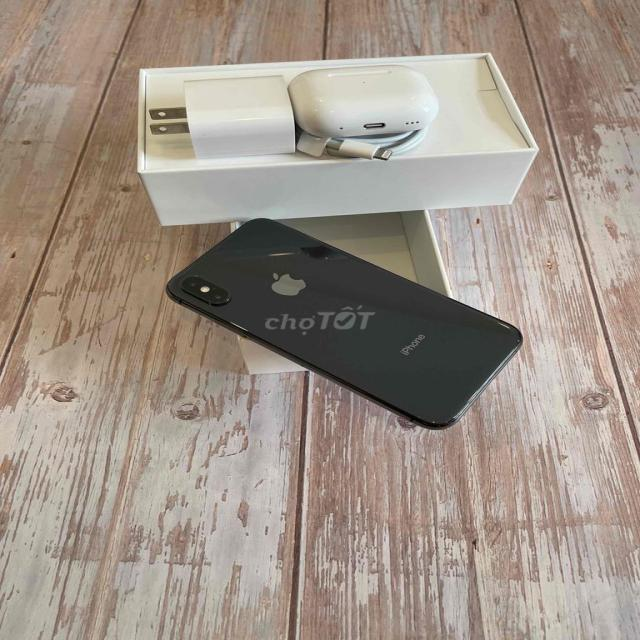scratch: (214, 296, 242, 306)
